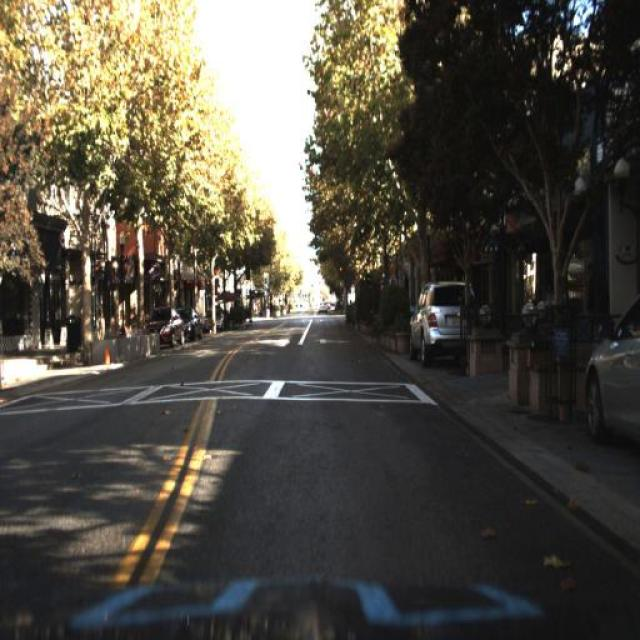car: (583, 298, 639, 454), (404, 273, 480, 367), (145, 301, 184, 350), (182, 305, 202, 340)
